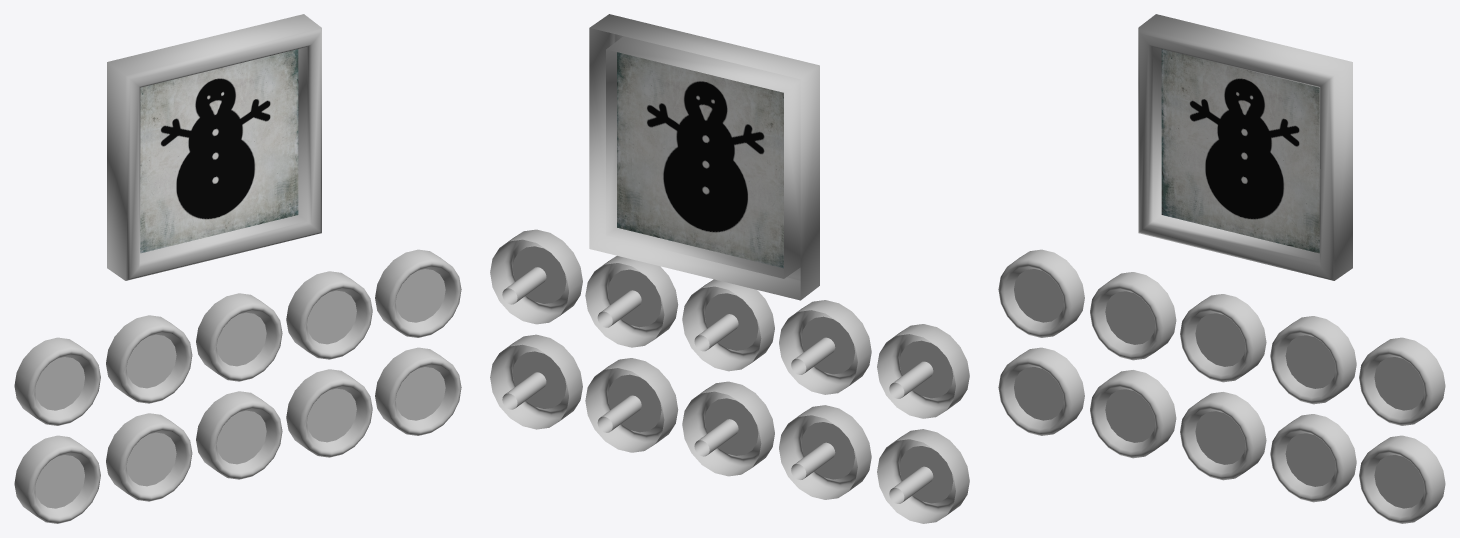
The model's file is Cipher Puzzle_P1_Whole box without plane.FBX.
3 views of the same model, side by side, from view 1: azimuth 30°, elevation 25°; view 2: azimuth 150°, elevation 25°; view 3: azimuth 330°, elevation 25° (orthographic). The views are drawn at different scales.
Parts seen in each view (by area): view 1: Plane005, Box068, Keyboard Button Modular008, Keyboard Button Modular002, Keyboard Button Modular007, Keyboard Button Modular003, Keyboard Button Modular001, Keyboard Button Modular004, Keyboard Button Modular006, Keyboard Button Modular009, Keyboard Button Modular005, Keyboard Button Modular010; view 2: Plane005, Box068, Keyboard Button Modular001, Keyboard Button Modular009, Keyboard Button Modular006, Keyboard Button Modular002, Keyboard Button Modular008, Keyboard Button Modular007, Keyboard Button Modular010, Keyboard Button Modular005, Keyboard Button Modular004, Keyboard Button Modular003; view 3: Plane005, Box068, Keyboard Button Modular004, Keyboard Button Modular003, Keyboard Button Modular006, Keyboard Button Modular008, Keyboard Button Modular009, Keyboard Button Modular010, Keyboard Button Modular005, Keyboard Button Modular007, Keyboard Button Modular001, Keyboard Button Modular002.
Boxes of the visible parts, x1,y1,x2,y2 form: Plane005: (140, 49, 298, 253); Box068: (107, 14, 321, 280); Keyboard Button Modular008: (196, 391, 282, 479); Keyboard Button Modular002: (106, 315, 192, 403); Keyboard Button Modular007: (106, 413, 192, 501); Keyboard Button Modular003: (196, 293, 282, 381); Keyboard Button Modular001: (14, 337, 100, 425); Keyboard Button Modular004: (286, 271, 372, 359); Keyboard Button Modular006: (14, 435, 100, 523); Keyboard Button Modular009: (286, 369, 372, 457); Keyboard Button Modular005: (375, 249, 461, 337); Keyboard Button Modular010: (375, 347, 461, 435); Plane005: (617, 52, 783, 268); Box068: (589, 14, 819, 300); Keyboard Button Modular001: (877, 324, 969, 418); Keyboard Button Modular009: (585, 358, 678, 452); Keyboard Button Modular006: (877, 429, 969, 523); Keyboard Button Modular002: (779, 300, 871, 394); Keyboard Button Modular008: (682, 381, 774, 476); Keyboard Button Modular007: (779, 405, 871, 499); Keyboard Button Modular010: (490, 334, 582, 429); Keyboard Button Modular005: (490, 229, 582, 324); Keyboard Button Modular004: (585, 256, 678, 347); Keyboard Button Modular003: (682, 279, 774, 371); Plane005: (1161, 49, 1319, 253); Box068: (1138, 14, 1352, 280); Keyboard Button Modular004: (1270, 316, 1356, 404); Keyboard Button Modular003: (1180, 294, 1266, 382); Keyboard Button Modular006: (998, 347, 1084, 435); Keyboard Button Modular008: (1180, 392, 1266, 480); Keyboard Button Modular009: (1270, 414, 1356, 502); Keyboard Button Modular010: (1359, 435, 1445, 523); Keyboard Button Modular005: (1359, 337, 1445, 425); Keyboard Button Modular007: (1090, 370, 1176, 458); Keyboard Button Modular001: (998, 249, 1084, 337); Keyboard Button Modular002: (1090, 272, 1176, 360).
Bounding box in the file's own units: 102 × 92.53 × 16.52.
